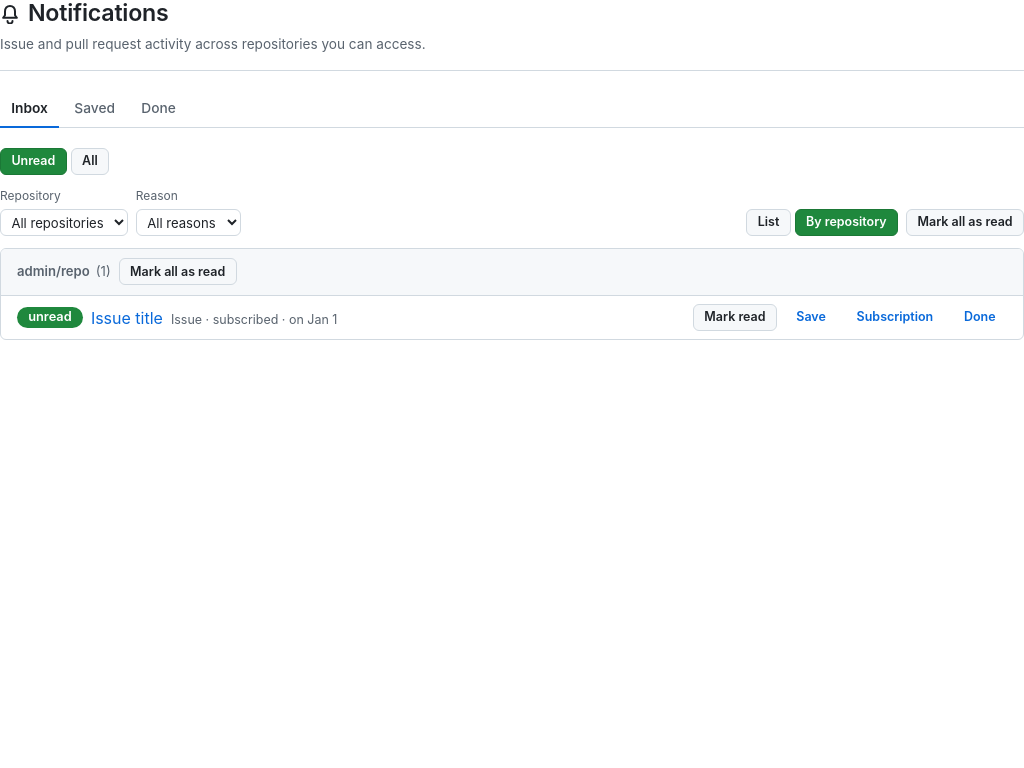
Scenario: NotificationsPage › opens subscription dialog
Click the button "Subscription" at coordinates (895, 318), box top-left (845, 304), bottom-right (945, 331)
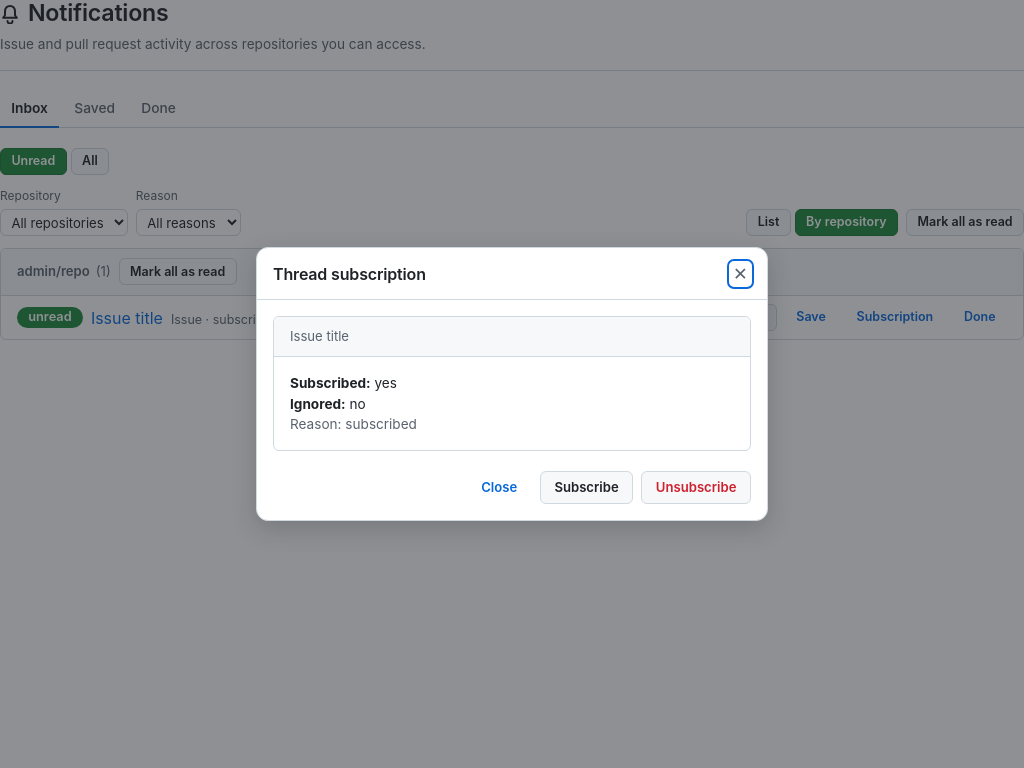
Check: the heading "Thread subscription" is shown, box top-left (273, 262), bottom-right (426, 286)
Check: the text "Subscribed:" is shown, box top-left (290, 375), bottom-right (371, 391)
